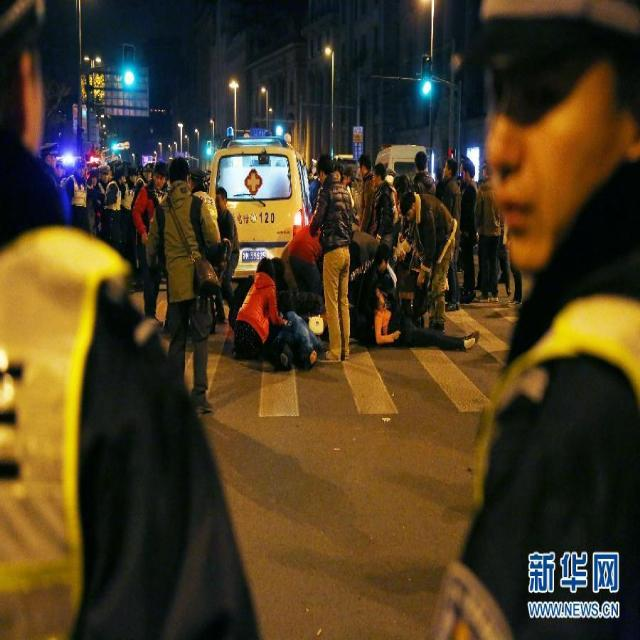10-: (0, 0, 633, 635)
down: (360, 281, 490, 370), (257, 303, 326, 392)
